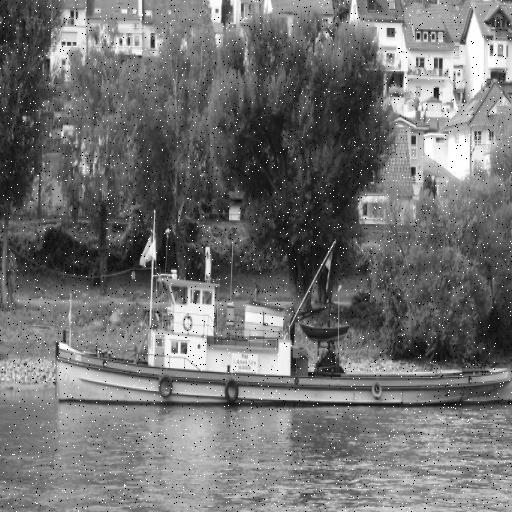tugboat: (53, 206, 512, 423)
